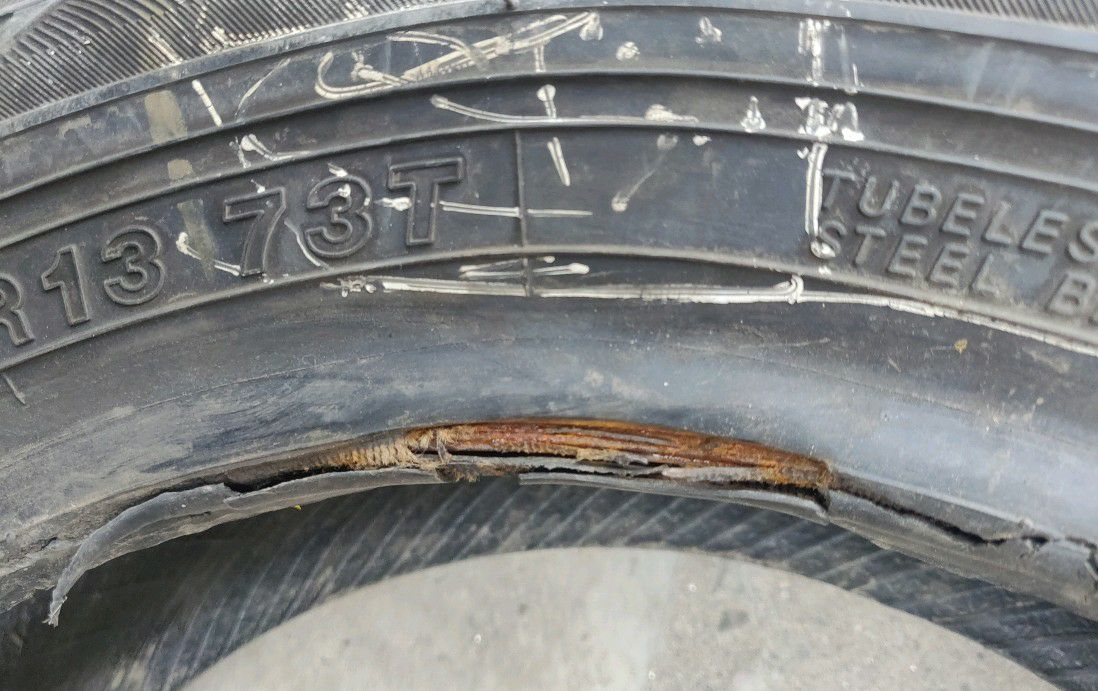bead_damage: (3, 409, 1096, 631)
